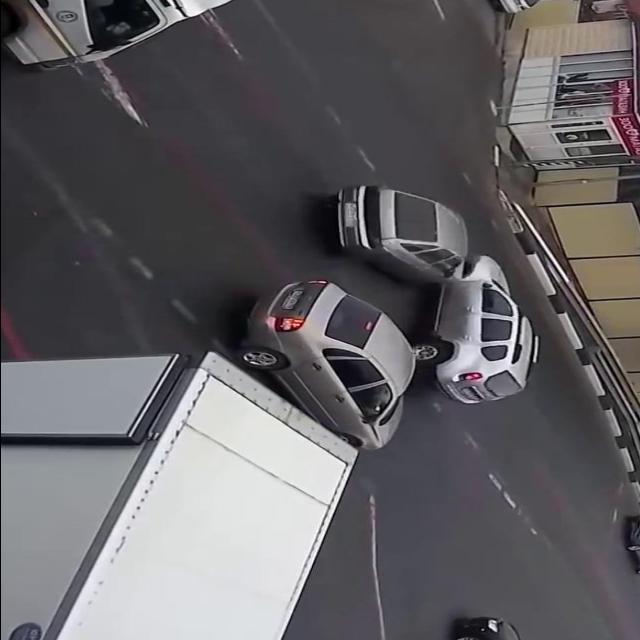accident: (315, 179, 549, 413)
